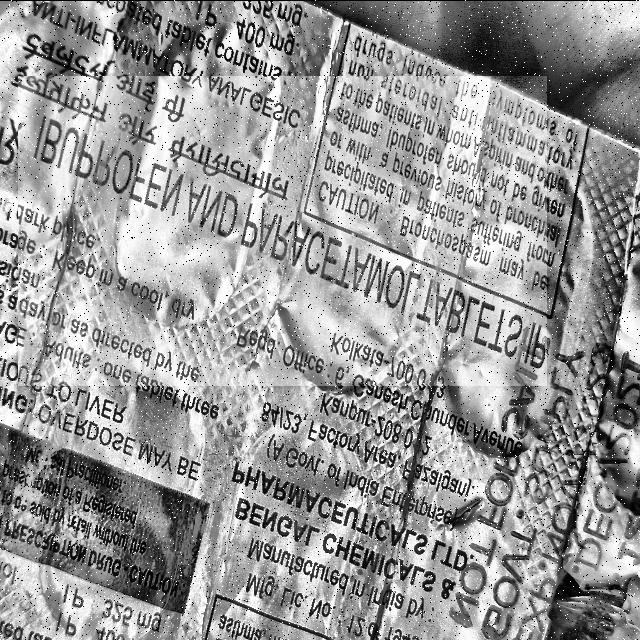IBUPROFEN AND PARACETAMOL TABLETS: (19, 75, 546, 384)
